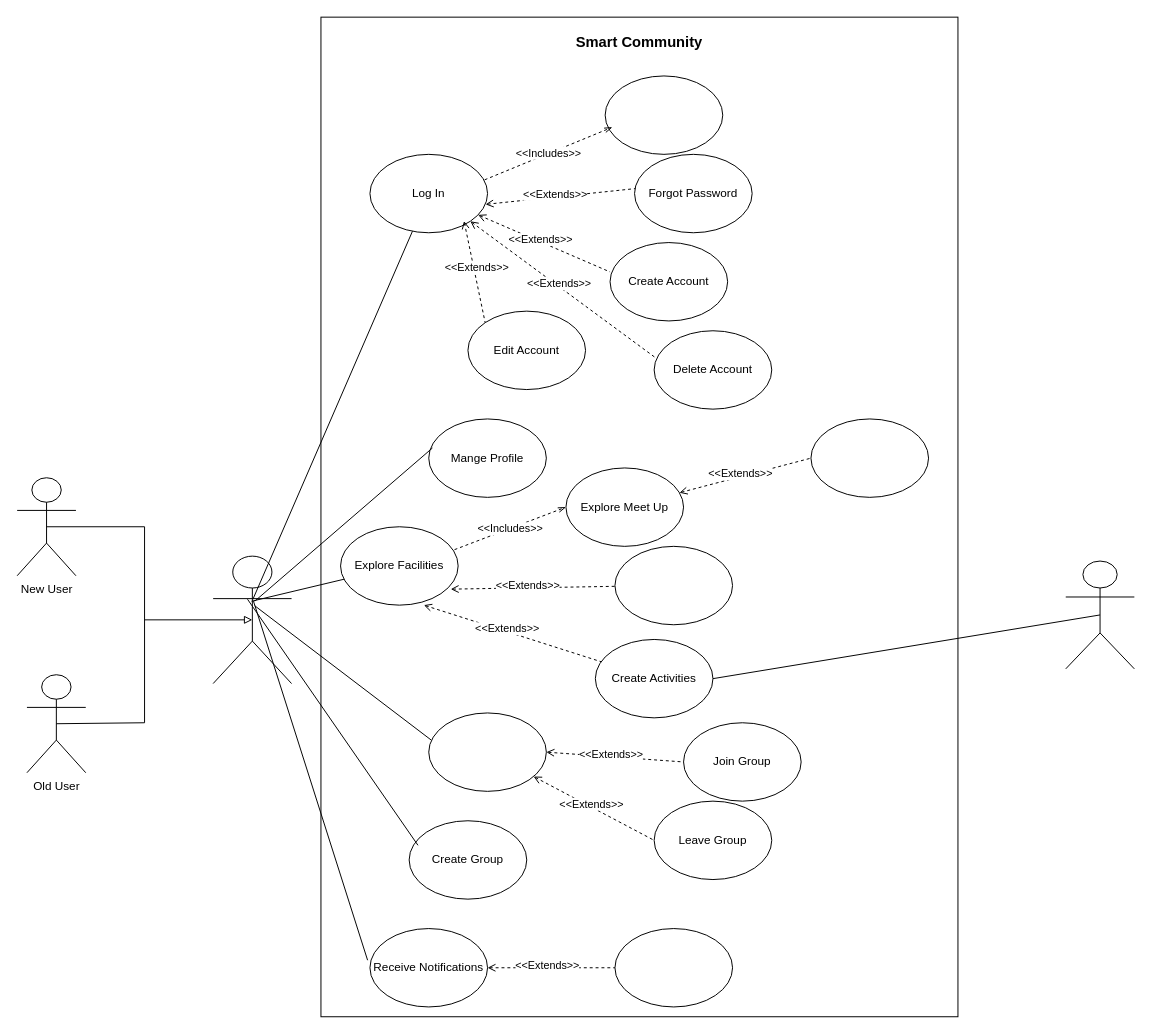
Some shapes in this 1152 by 1034 pixel diagram are drawn without their labels. Each missing label, with the box of its shape:
Administrator: (1065, 560, 1134, 669)
Check Username/Password: (604, 75, 723, 154)
Configure Notification Preferences: (614, 928, 733, 1007)
Create Meet-up: (614, 545, 733, 625)
Join Meet Up: (810, 418, 929, 497)
User: (212, 555, 292, 684)
View Interest Gropups: (428, 712, 546, 791)
